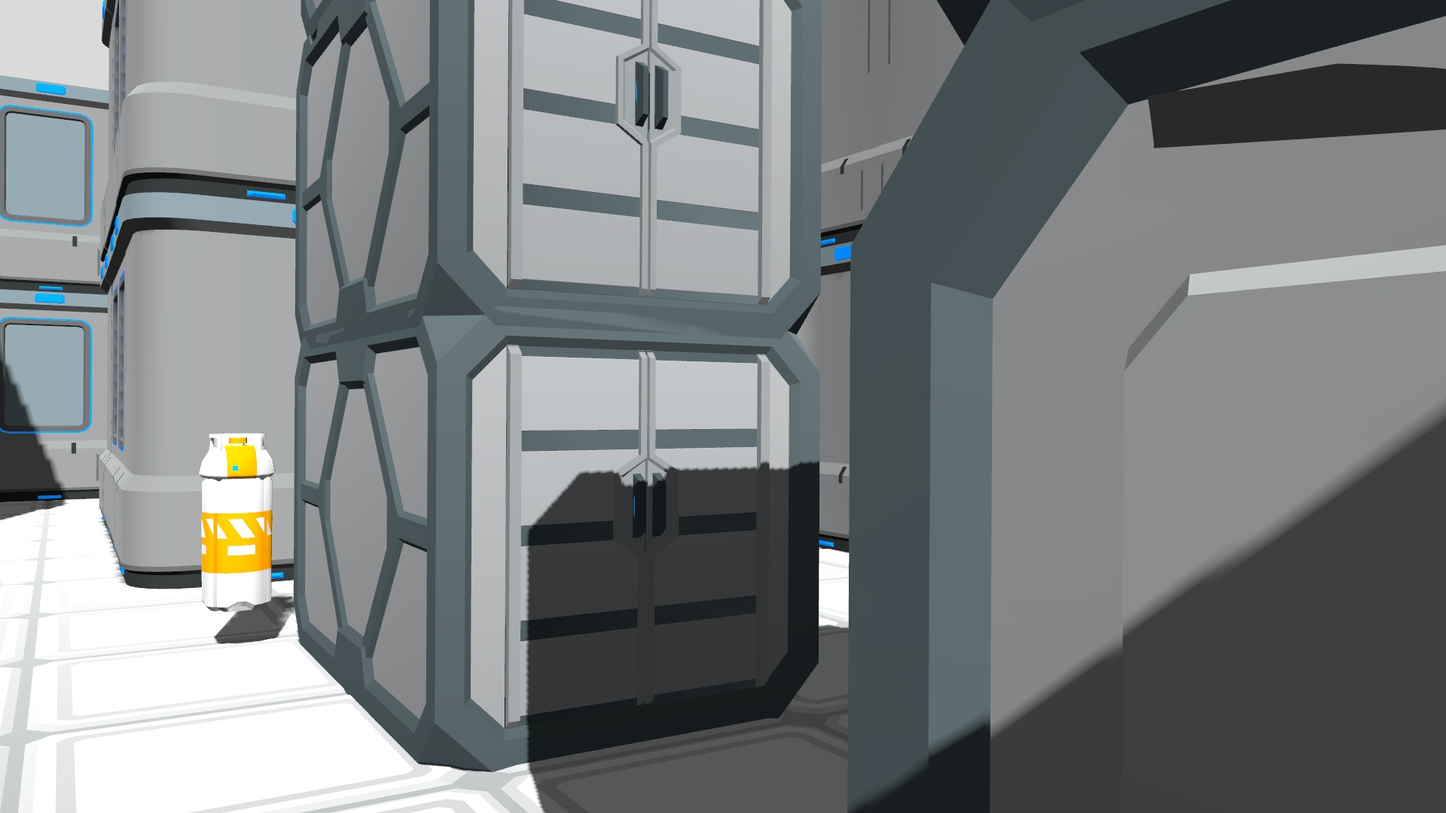yellow_barrel: (191, 425, 276, 618)
